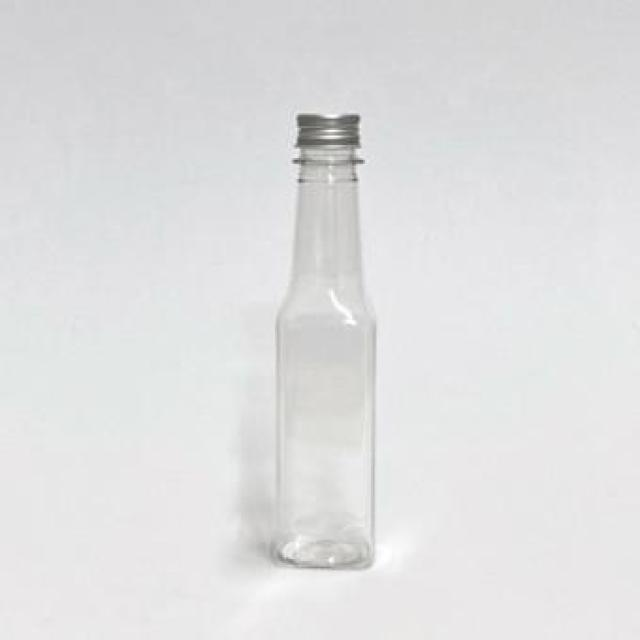bottle: (268, 114, 383, 566)
